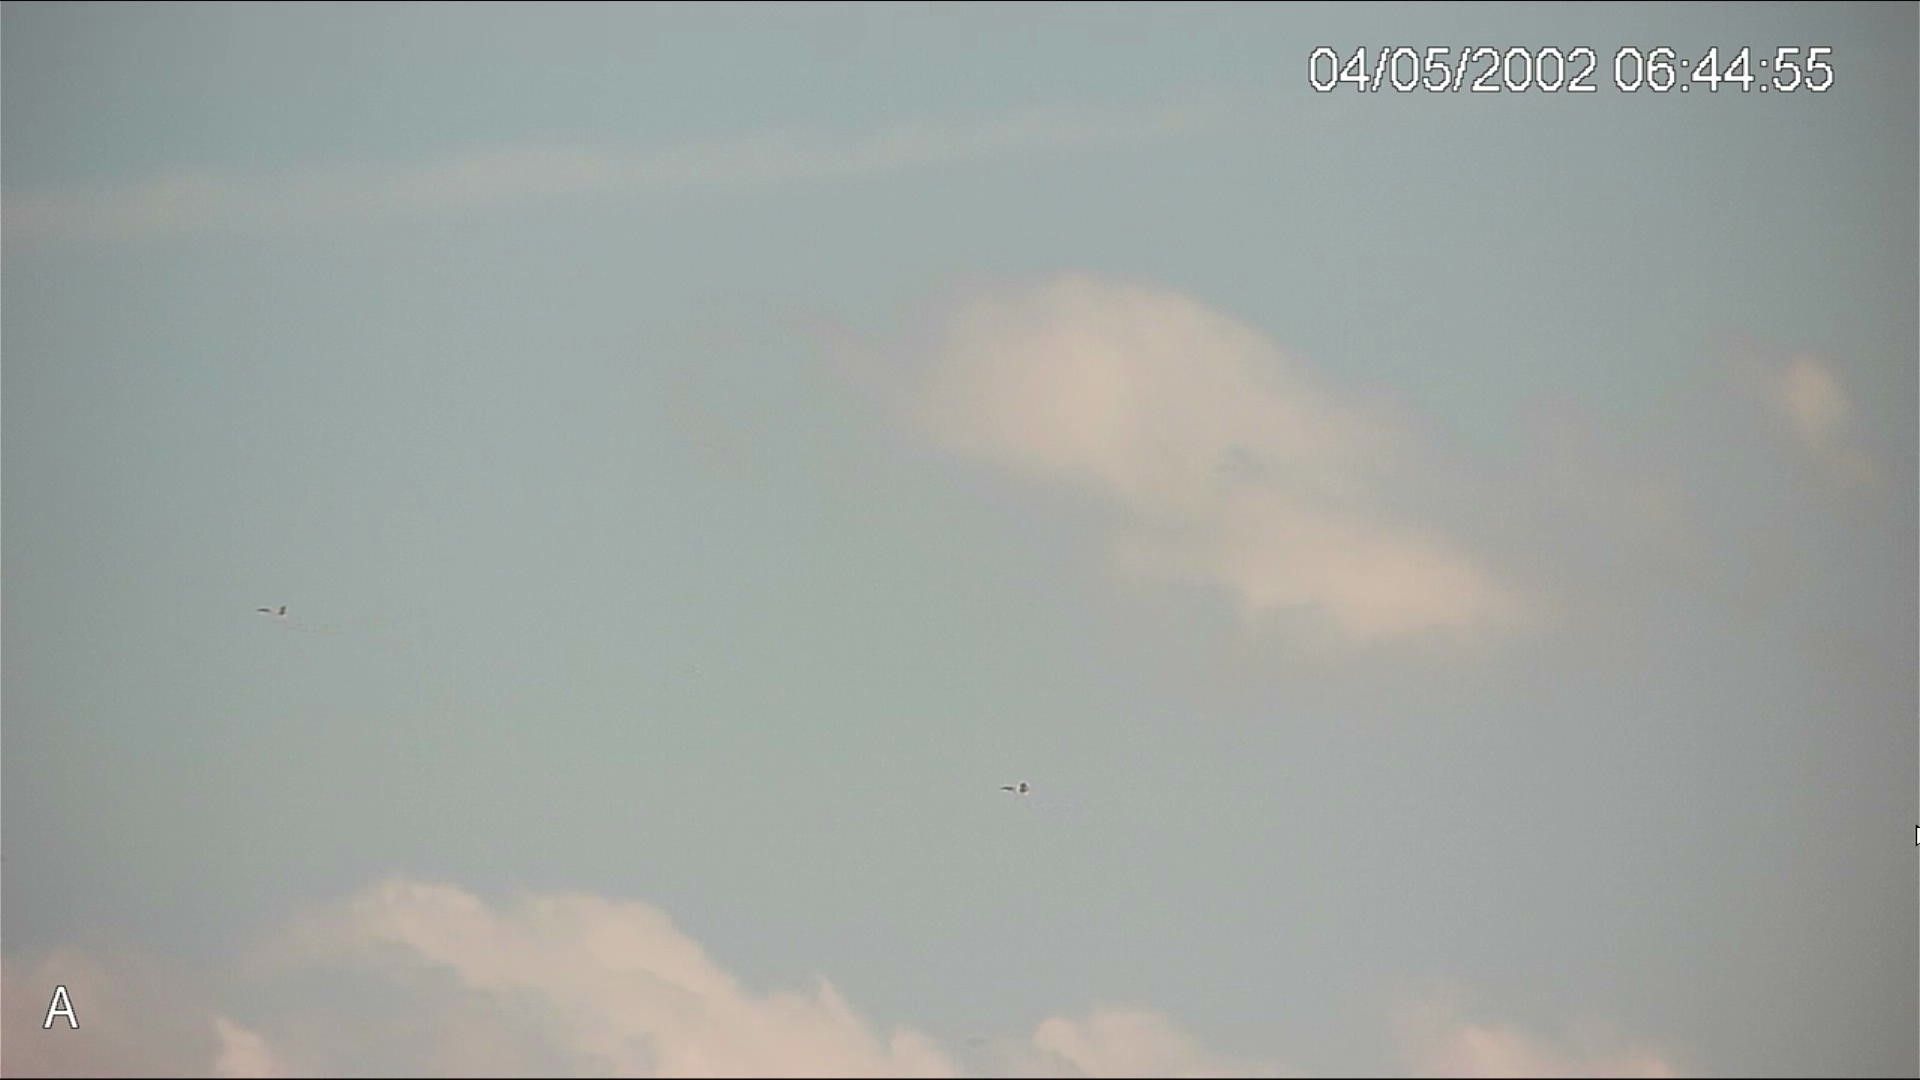SU_30: (255, 603, 287, 621), (1001, 781, 1031, 795)
